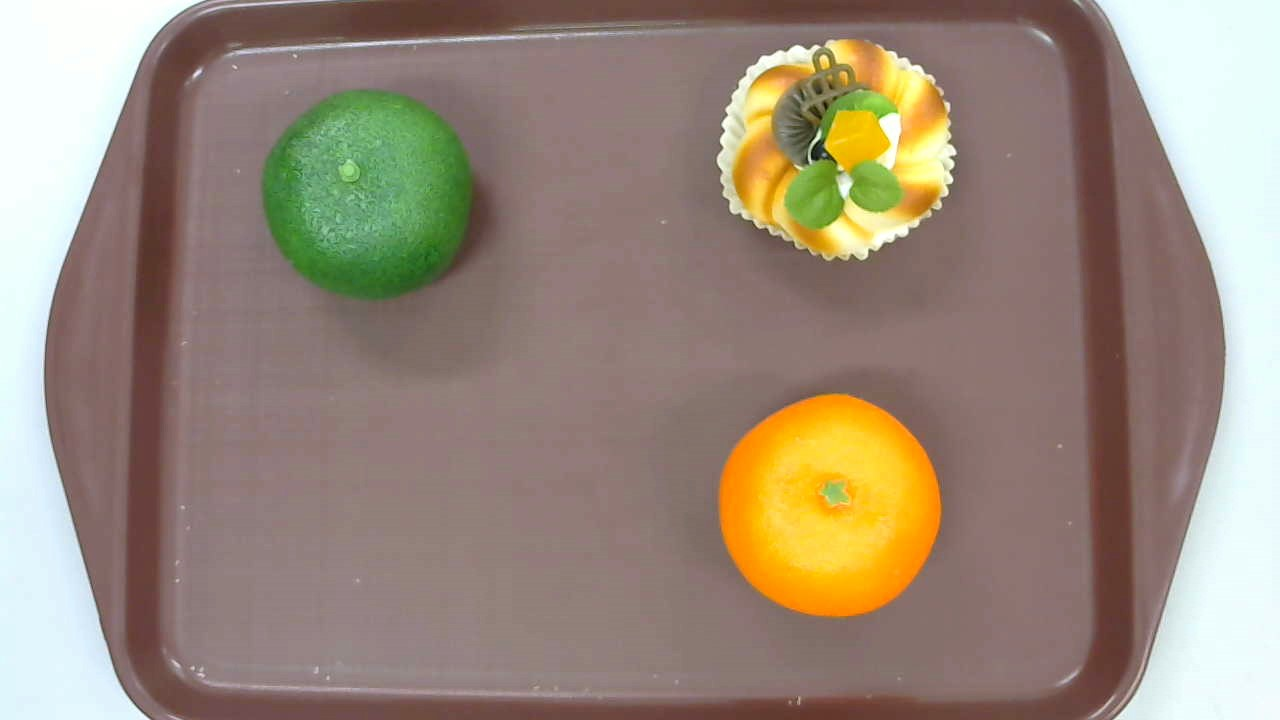fruit tart: (716, 37, 957, 262)
green orange: (261, 90, 475, 301)
orange: (716, 394, 940, 615)
